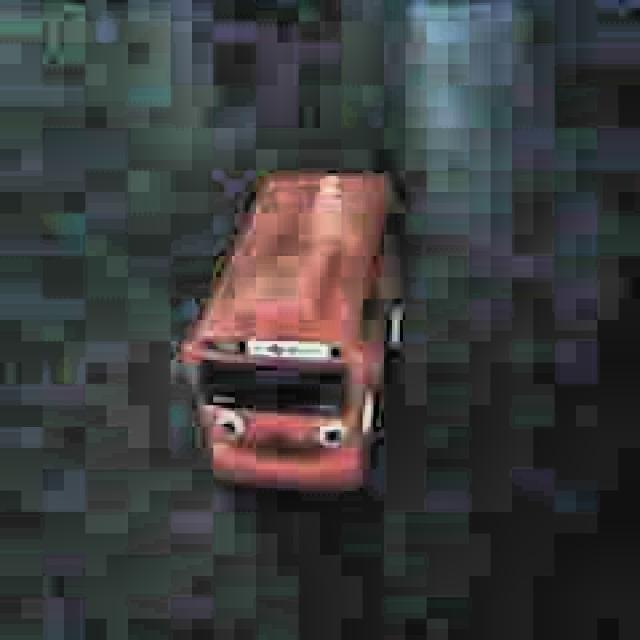bus: (176, 169, 422, 494)
